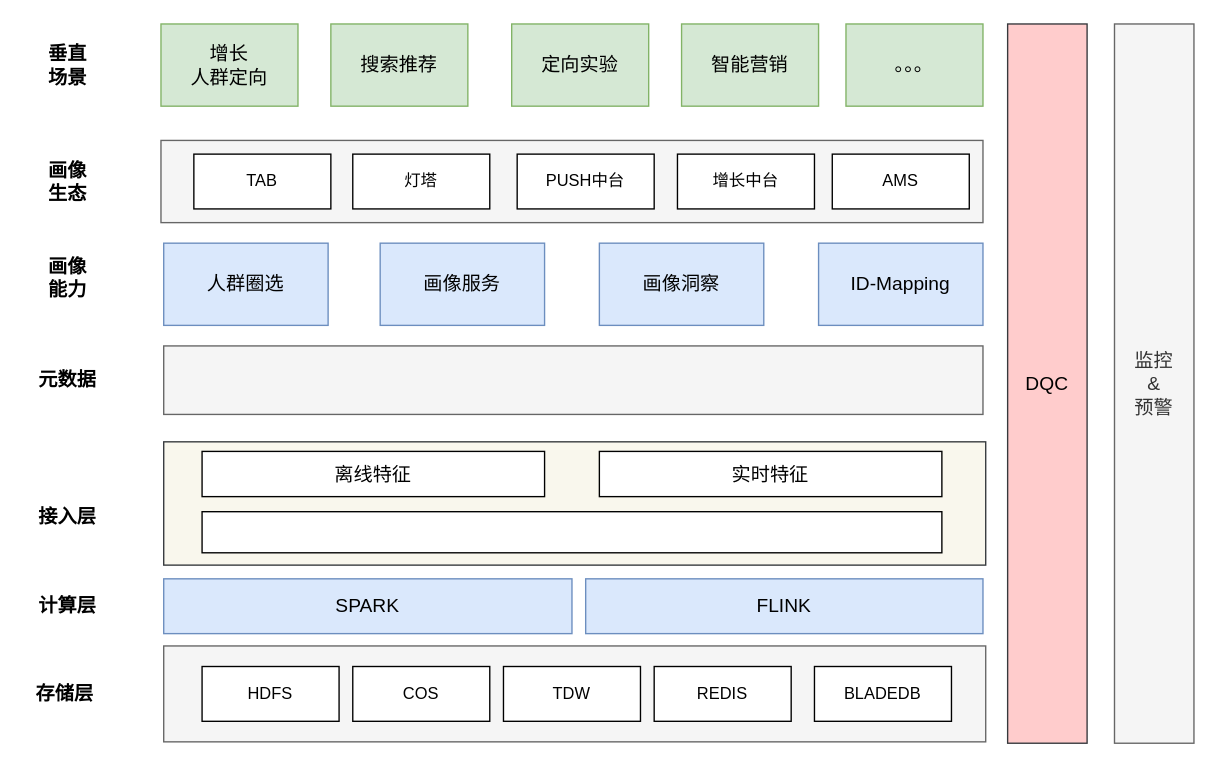
Some shapes in this 1218 by 767 pixel diagram are drawn without their labels. The shapes that lost their labels are listed below. From the top down, each one's centre as x and y in pixels, then its label:
(x=572, y=379): 画像元数据
(x=571, y=531): 离在线统一计算框架 - TX
